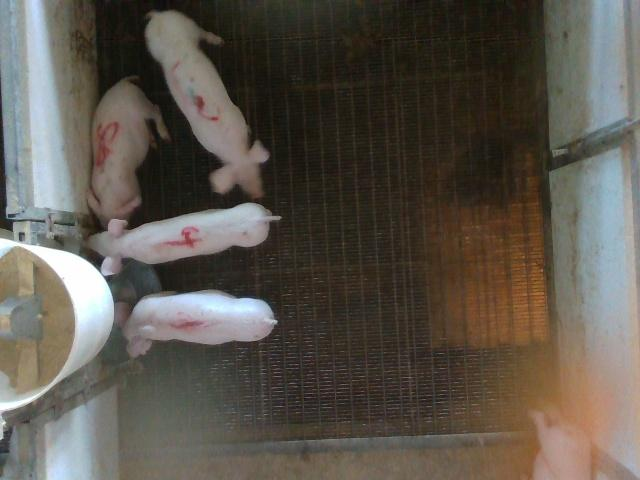pig-1: (145, 11, 269, 198), (114, 290, 276, 357)
pig-4: (88, 202, 280, 274)
pig-5: (88, 76, 170, 226)
